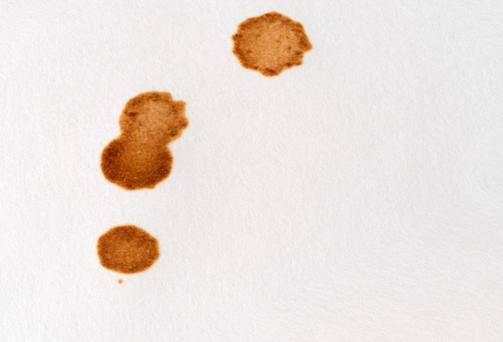stain: (98, 88, 195, 193), (227, 8, 316, 79), (91, 223, 162, 281)
